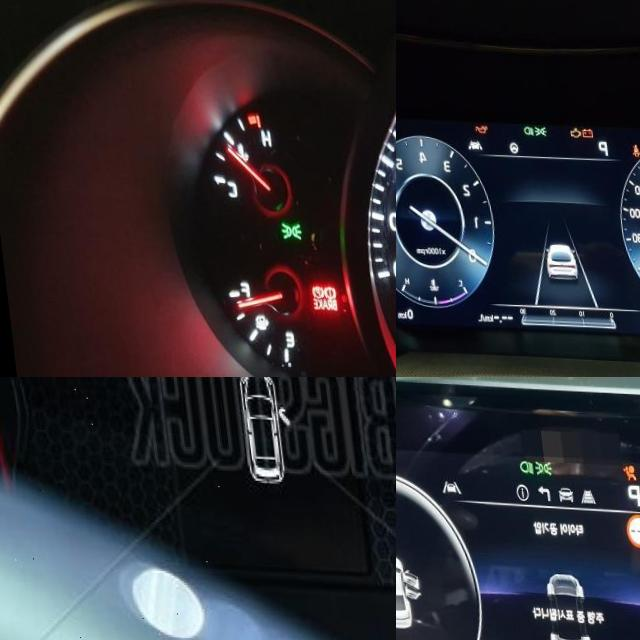LaneCenteringOff: (437, 476, 456, 492), (461, 137, 477, 148)
Low beam: (515, 456, 530, 472), (518, 123, 529, 133)
SideLamp: (274, 218, 295, 238), (530, 456, 549, 473), (529, 123, 543, 133)
